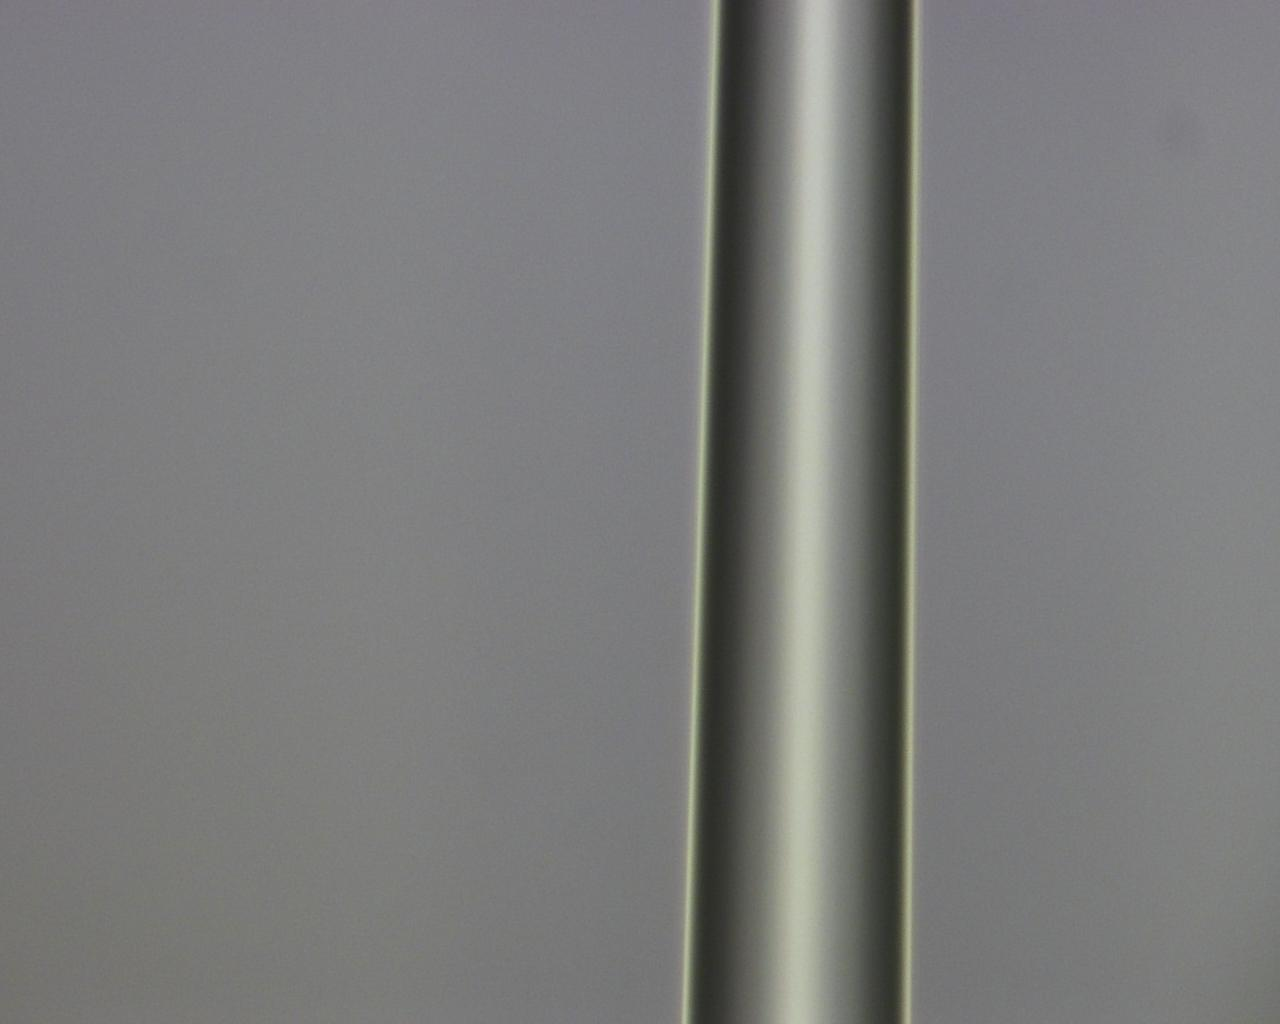fiber: (832, 511, 1280, 914), (19, 399, 832, 591), (899, 91, 1280, 262)
